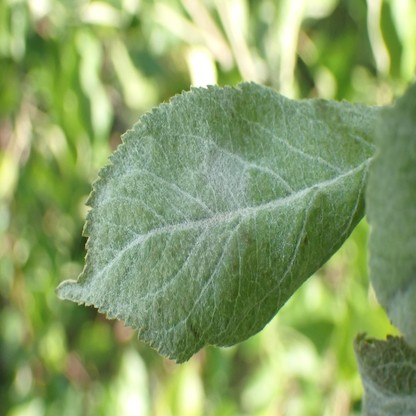powdery_mildew: (56, 80, 369, 368), (353, 332, 416, 415), (379, 286, 416, 331)
